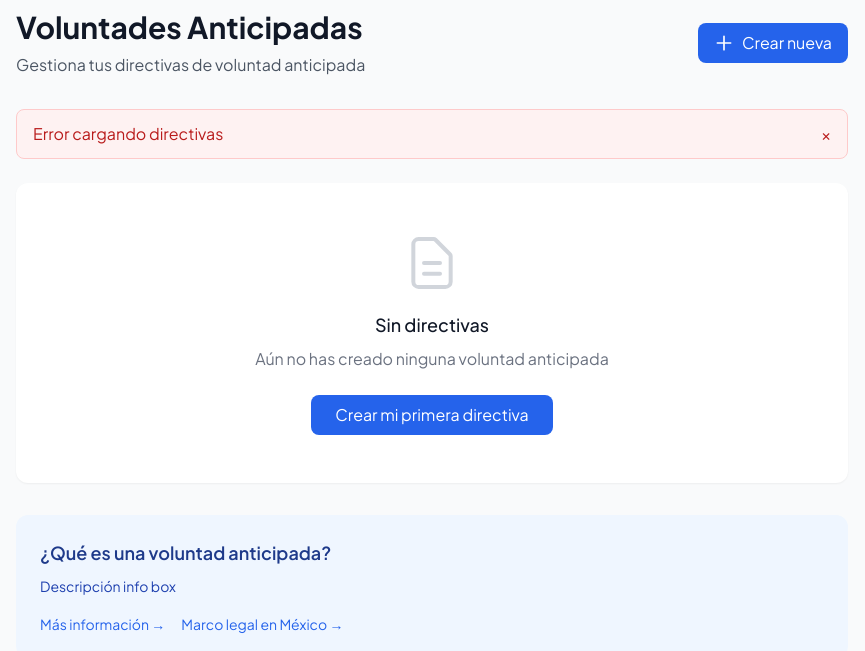
Test: Directives – error states › dismissing the error alert clears it
The width and height of the screenshot is (865, 651).
Check: the message "Error cargando directivas ×" is shown, box [16,109,848,159]
Click the button named "Cerrar error" at (826, 134), box [821,122,831,146]
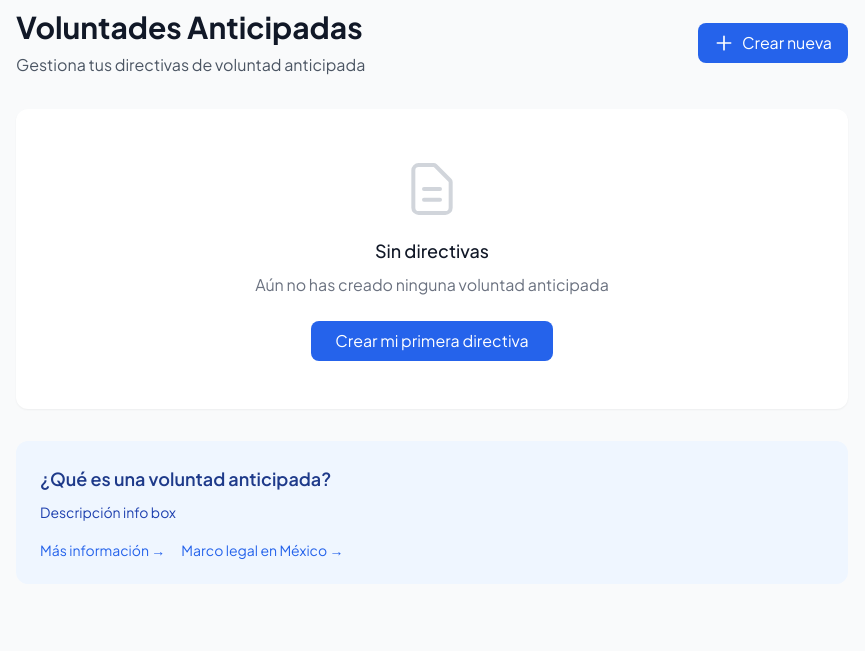
Check: the message "Error cargando directivas ×" is gone
